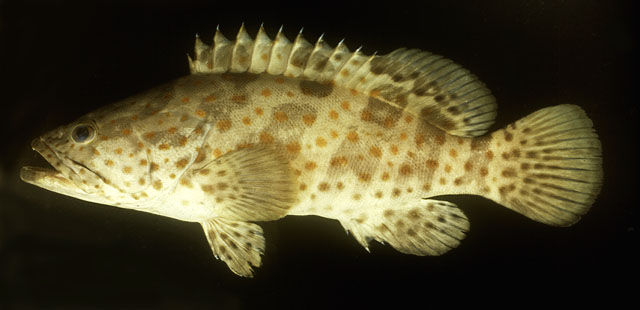fish: (20, 23, 604, 278)
